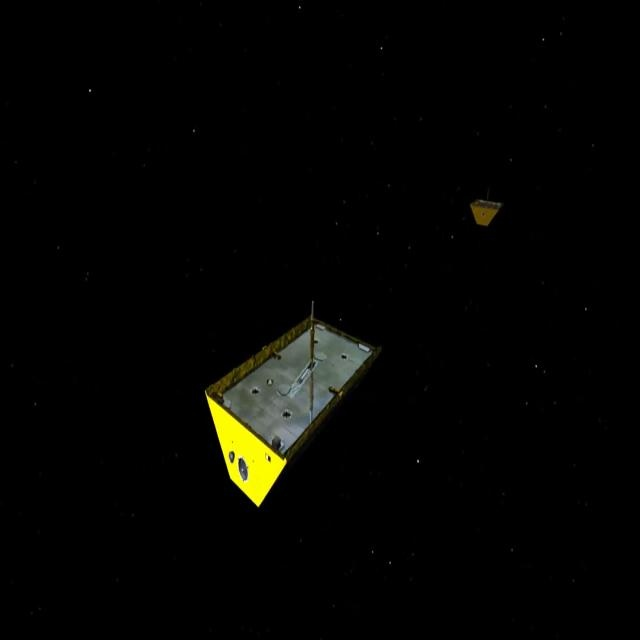large_debris: (450, 183, 510, 238)
medium_debris: (173, 247, 397, 558)
